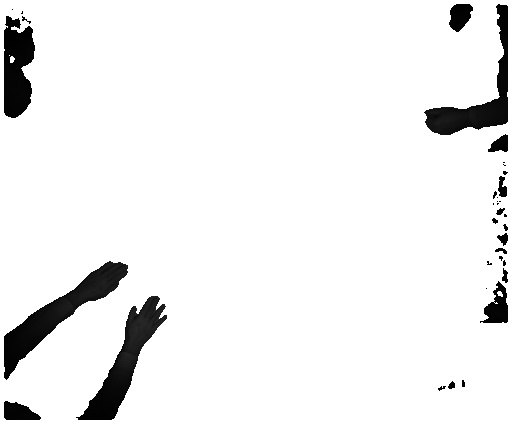fist: (424, 104, 466, 135)
hand: (74, 256, 127, 303), (124, 296, 167, 351)
